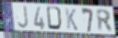4: (34, 6, 46, 31)
7: (81, 8, 94, 34)
D: (46, 6, 64, 32)
J: (17, 5, 30, 30)
K: (64, 7, 79, 32)
R: (95, 8, 114, 33)
